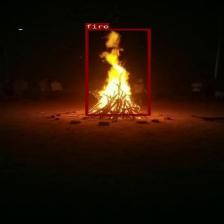fire: (85, 29, 150, 116)
